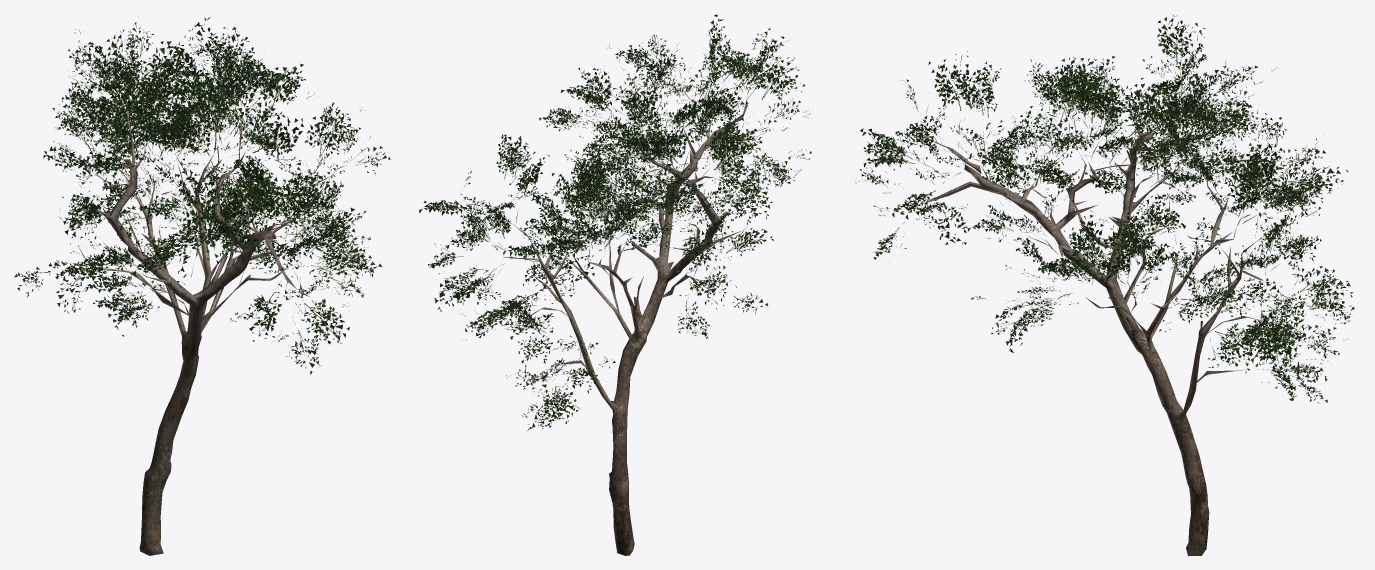
The model's file is ENT-ARV-001.glb.
The picture shows the model from 3 angles, left to right: view 1: azimuth 30°, elevation 25°; view 2: azimuth 150°, elevation 25°; view 3: azimuth 270°, elevation 25°; orthographic projection. The views are drawn at different scales.
Visible parts, largest first — view 1: ENT-ARV-001; view 2: ENT-ARV-001; view 3: ENT-ARV-001.
Part boxes in pixels (left/top/right/bottom): ENT-ARV-001: left=14, top=17, right=390, bottom=555; ENT-ARV-001: left=419, top=14, right=811, bottom=555; ENT-ARV-001: left=855, top=15, right=1354, bottom=555.
Bounding box in the file's own units: 2.89 × 4.55 × 4.24.
3 materials, 3 textured.
